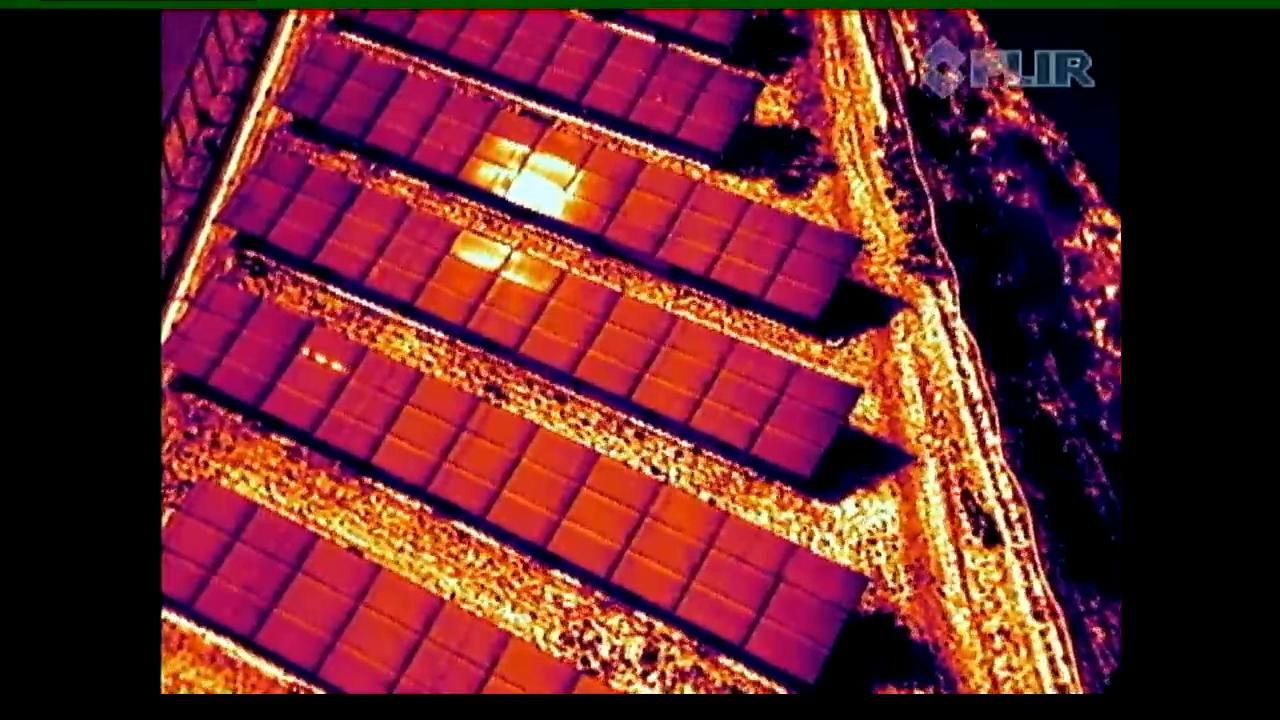hotspot: (249, 320, 366, 433)
